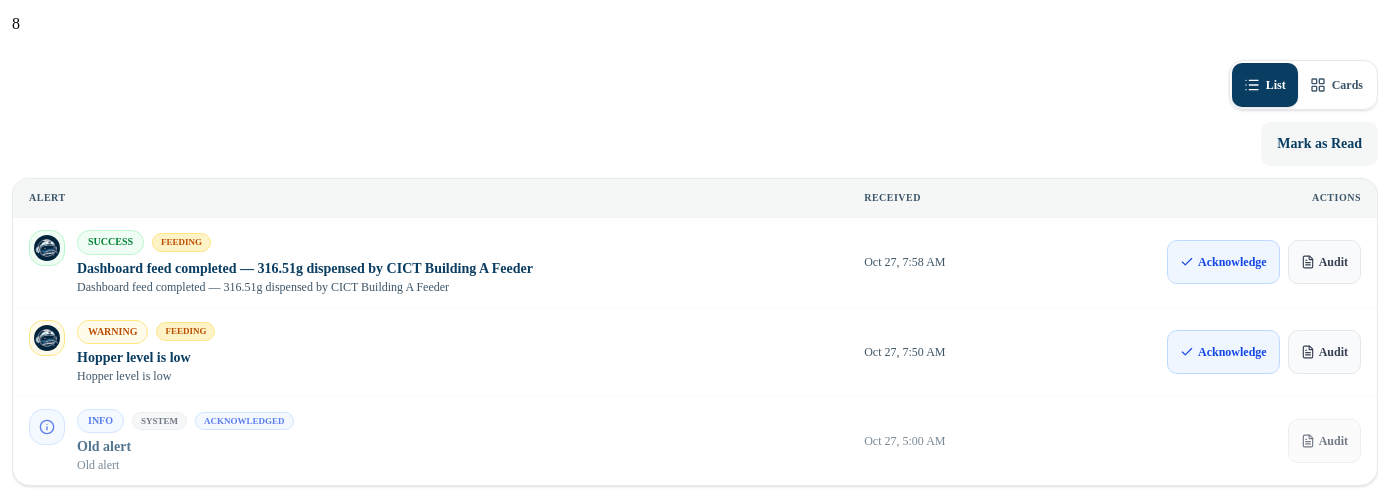
it: NotificationList read state › marks one row and drops the badge by one on Acknowledge
Click the button "Acknowledge" in the row of "SUCCESS" at [1223, 262], box [1167,240,1280,284]
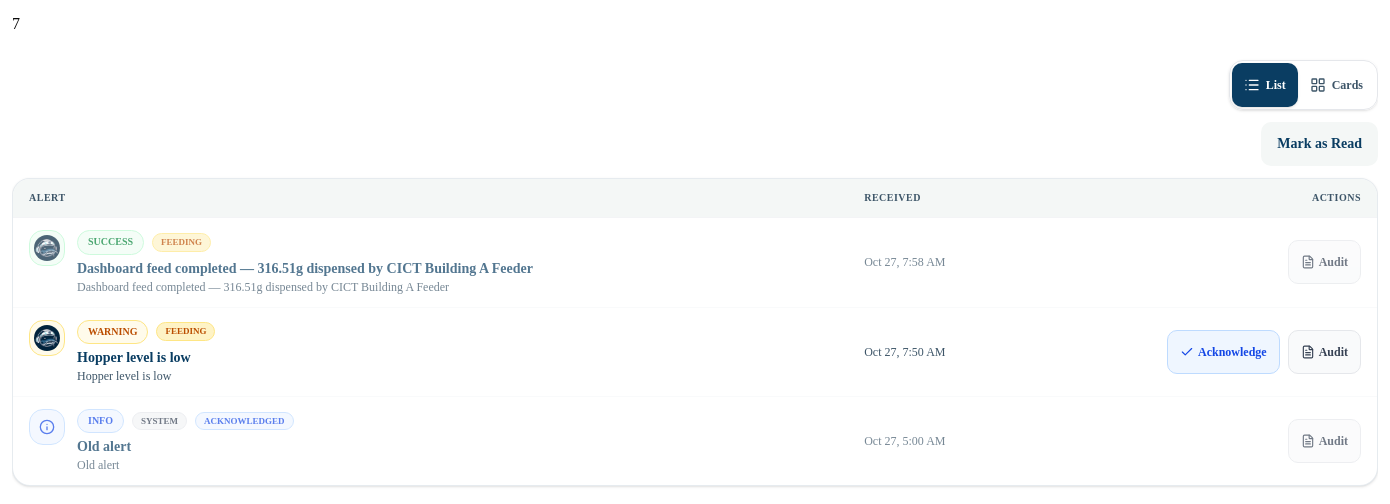
Expected: the number of buttons "Acknowledge" is 1, [1167,330,1280,374]
Result: the text with test id "badge" reads "7" at [12,15,20,32]
